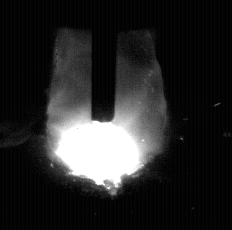arame: (92, 0, 116, 122)
poca: (46, 0, 167, 230)
